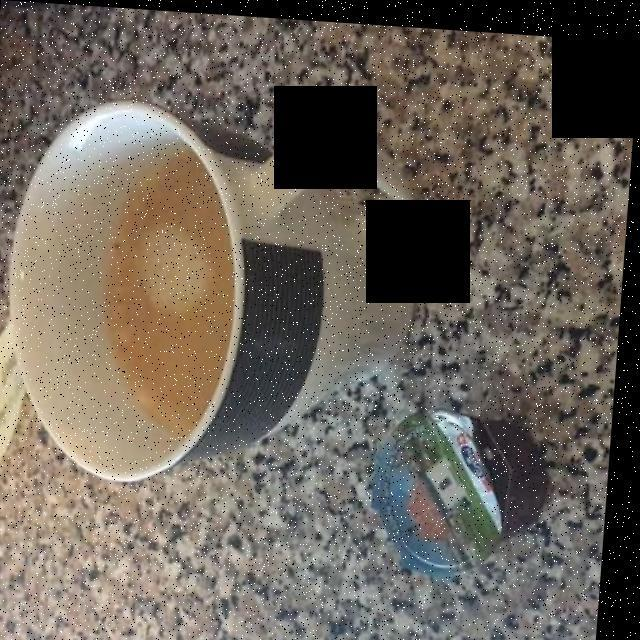coffee: (107, 154, 232, 431)
